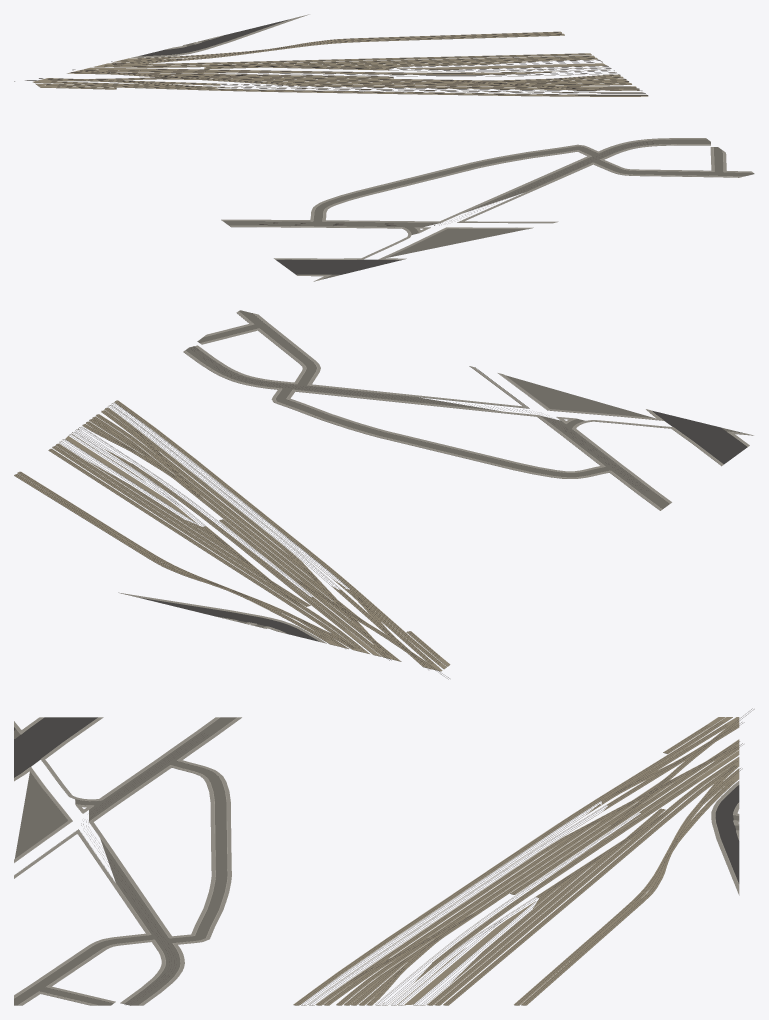
The model's file is Ulice_3_1.fbx.
3 renders of one model, top to bottom at view 1: azimuth 30°, elevation 25°; view 2: azimuth 150°, elevation 25°; view 3: azimuth 270°, elevation 25°, orthographic. The views are drawn at different scales.
Parts seen in each view (by area): view 1: Tory_3_1, Ulica_3_1, Chodnik_3_1; view 2: Tory_3_1, Ulica_3_1, Chodnik_3_1; view 3: Tory_3_1, Ulica_3_1, Chodnik_3_1.
Boxes of the visible parts, x1,y1,x2,y2 form: Tory_3_1: [14, 31, 648, 96]; Ulica_3_1: [138, 19, 754, 279]; Chodnik_3_1: [131, 14, 753, 281]; Tory_3_1: [14, 400, 450, 679]; Ulica_3_1: [139, 310, 747, 641]; Chodnik_3_1: [118, 311, 753, 643]; Tory_3_1: [293, 708, 754, 1005]; Ulica_3_1: [14, 717, 739, 1005]; Chodnik_3_1: [14, 717, 739, 1005].
Bounding box in the file's own units: 485 × 0.5 × 511.
